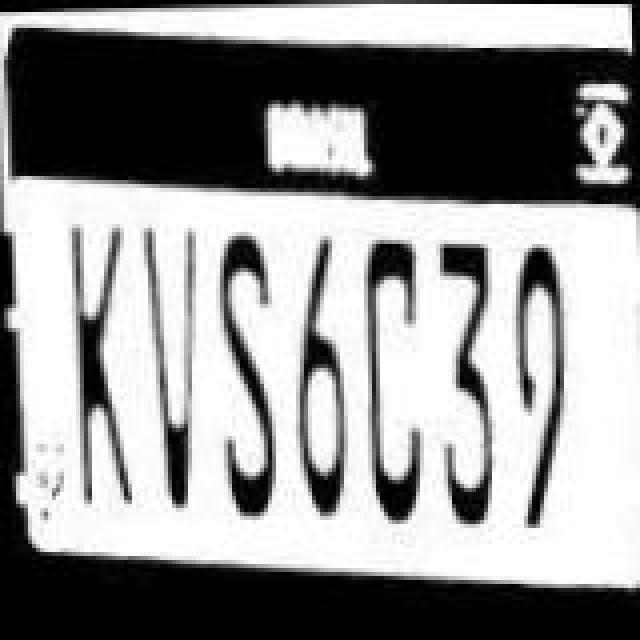3: (426, 224, 502, 524)
6: (278, 214, 362, 526)
9: (496, 232, 576, 544)
C: (358, 224, 434, 528)
K: (60, 204, 148, 516)
S: (202, 214, 286, 522)
V: (140, 212, 212, 508)
